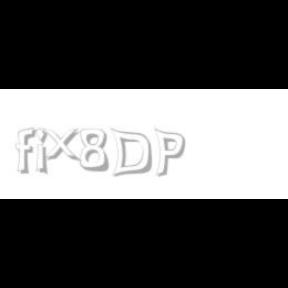8: (80, 128, 108, 172)
D: (110, 128, 152, 178)
P: (153, 128, 185, 178)
f: (16, 128, 40, 174)
i: (35, 128, 51, 176)
x: (42, 128, 84, 162)
